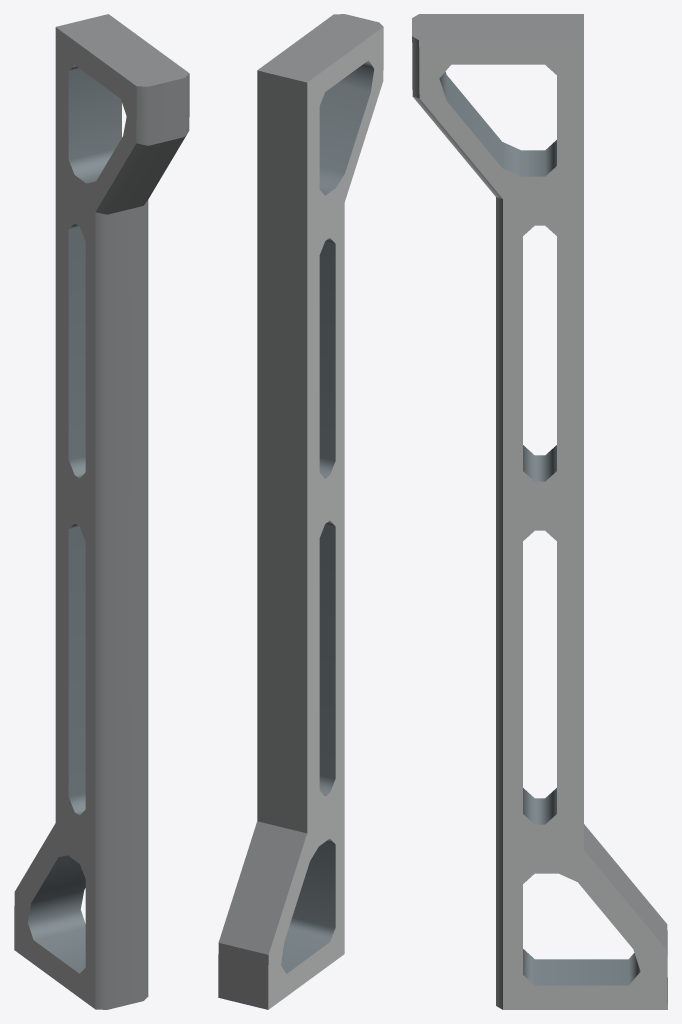
Rendered from pillar_support_1x1_damaged.glb.
The picture shows the model from 3 angles, left to right: view 1: azimuth 30°, elevation 25°; view 2: azimuth 150°, elevation 25°; view 3: azimuth 270°, elevation 25°; orthographic projection. The views are drawn at different scales.
Visible parts, largest first — view 1: Column_002; view 2: Column_002; view 3: Column_002.
Part boxes in pixels (box(x1,y1,x2,y2)): Column_002: box(14, 14, 189, 1009); Column_002: box(218, 14, 383, 1009); Column_002: box(412, 14, 667, 1009).
Size of the model in its own units: 0.2241 by 3.85 by 0.9203.
1 material, 1 textured.
